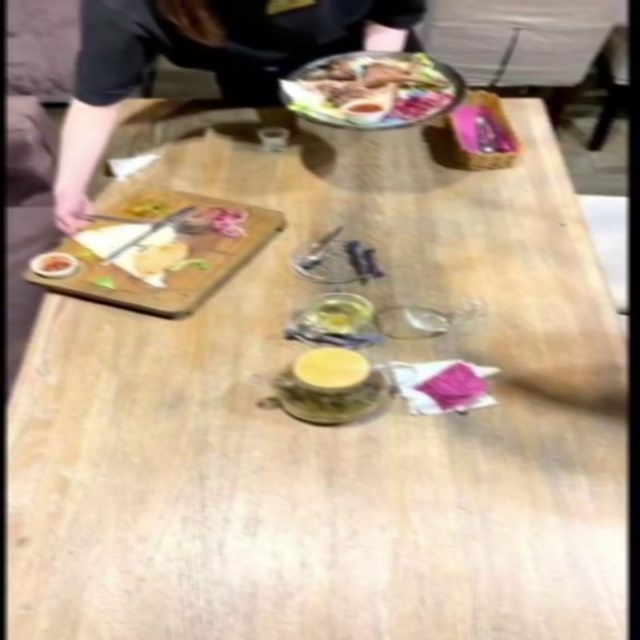meat: (20, 178, 288, 324), (211, 59, 533, 129)
tea: (239, 346, 418, 416)
